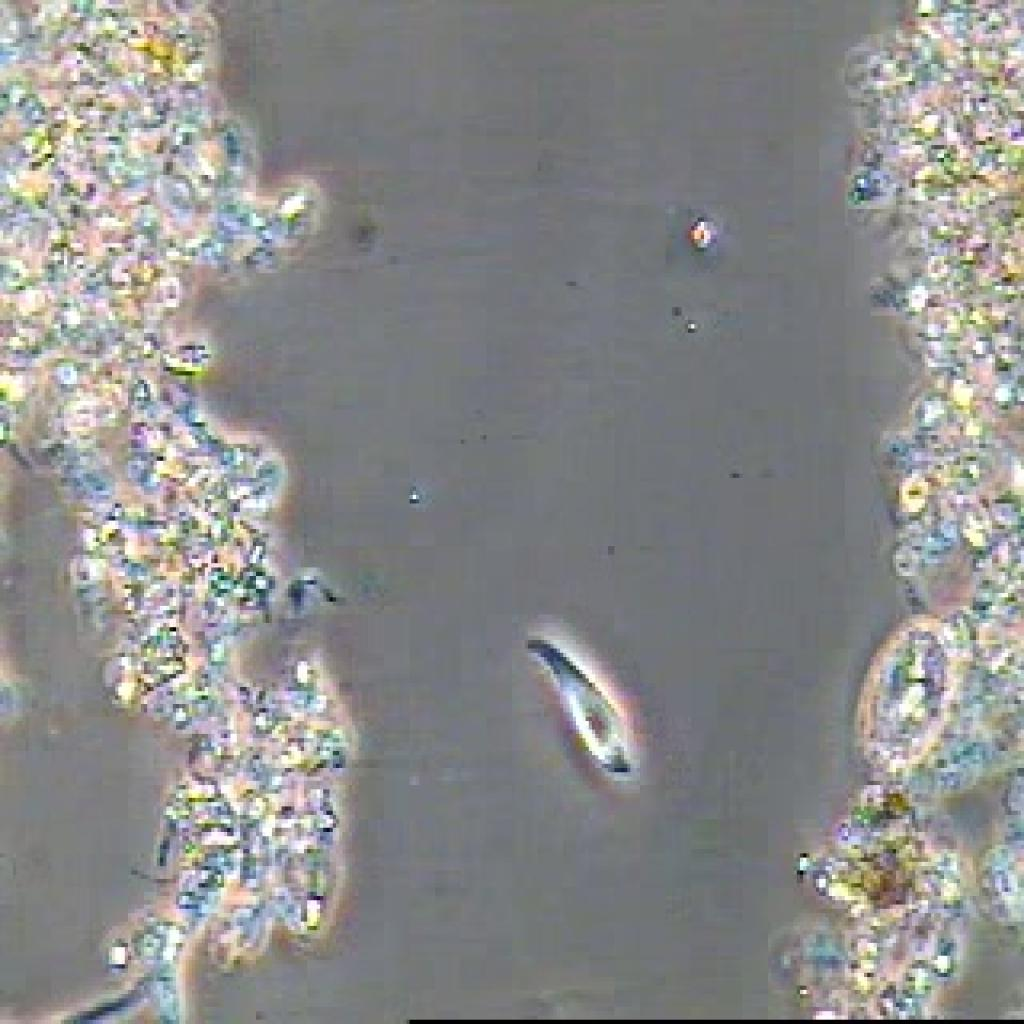Pristina: (515, 623, 656, 802)
